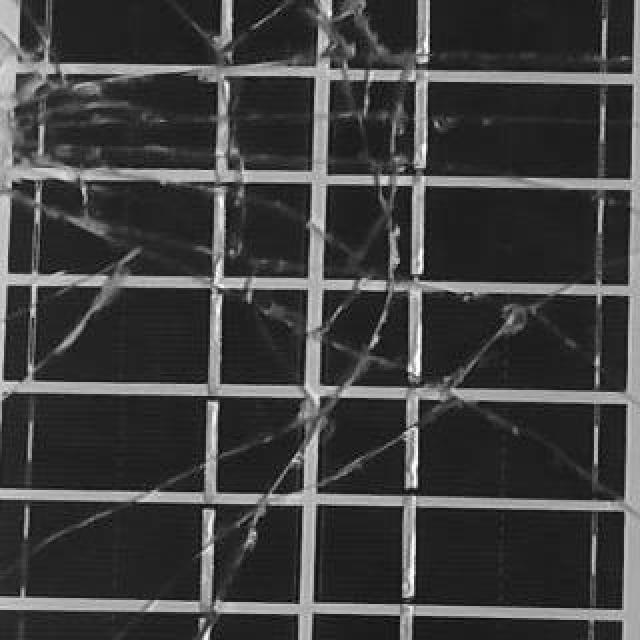Anomaly Solar Panel: (1, 0, 632, 632)
Structural Damage: (0, 4, 433, 598), (438, 245, 618, 532)
